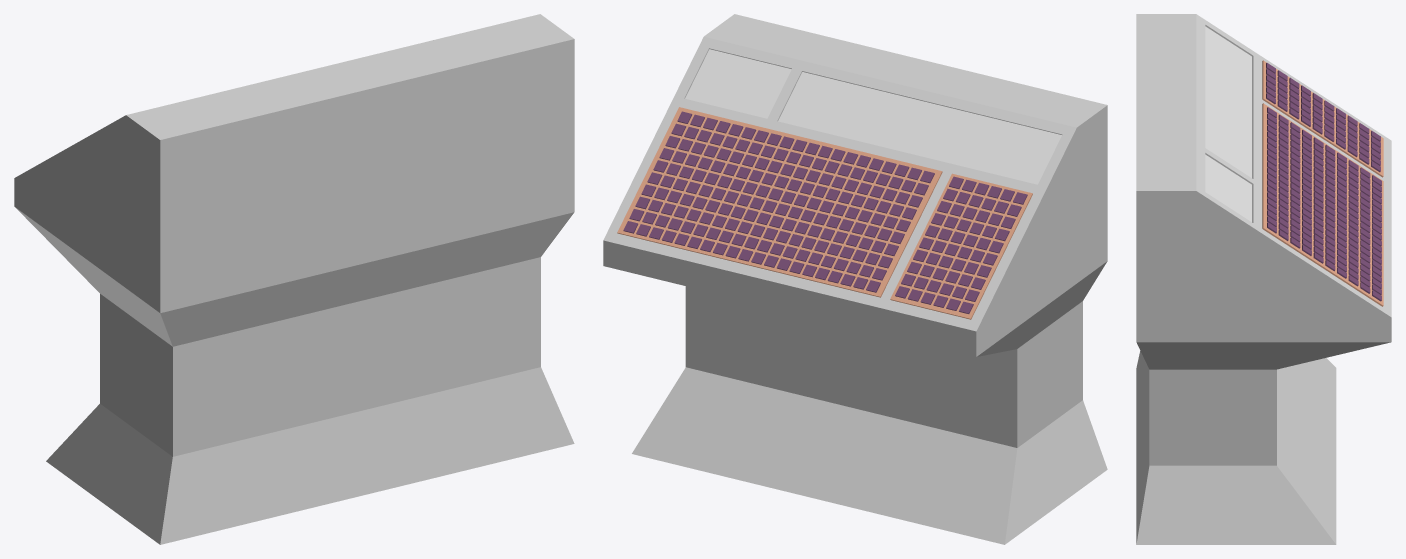
Rendered from Console.glb.
3 renders of one model, left to right at view 1: azimuth 30°, elevation 25°; view 2: azimuth 150°, elevation 25°; view 3: azimuth 270°, elevation 25°, orthographic. The views are drawn at different scales.
Visible parts, largest first — view 1: Cube; view 2: Cube, Plane, Cube.001; view 3: Cube, Plane, Cube.001.
Part boxes in pixels (box(x1,y1,x2,y2)): Cube: box(14, 14, 574, 544); Cube: box(603, 14, 1107, 544); Plane: box(603, 36, 1076, 331); Cube.001: box(623, 111, 1027, 313); Cube: box(1136, 14, 1391, 544); Plane: box(1196, 14, 1391, 317); Cube.001: box(1266, 63, 1381, 301).
Bounding box in the file's own units: 1.33 × 1.24 × 0.8127.
